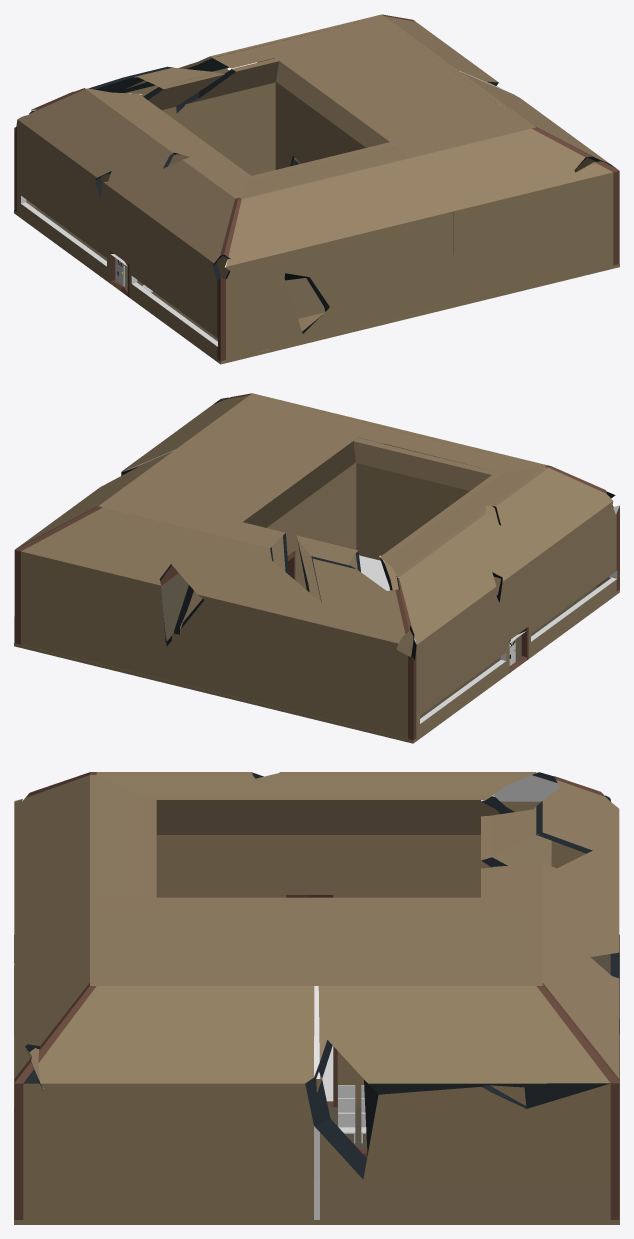
File: corperatebuilding.fbx
3 views of the same model, one above another, from view 1: azimuth 30°, elevation 25°; view 2: azimuth 150°, elevation 25°; view 3: azimuth 270°, elevation 25° (orthographic). The views are drawn at different scales.
Parts seen in each view (by area): view 1: CoperateBuilding; view 2: CoperateBuilding; view 3: CoperateBuilding.
Part boxes in pixels (x1,y1,x2,y2): CoperateBuilding: (14,14,619,364); CoperateBuilding: (14,393,619,743); CoperateBuilding: (14,772,619,1224).
Bounding box in the file's own units: 26504 × 8554 × 23761.
